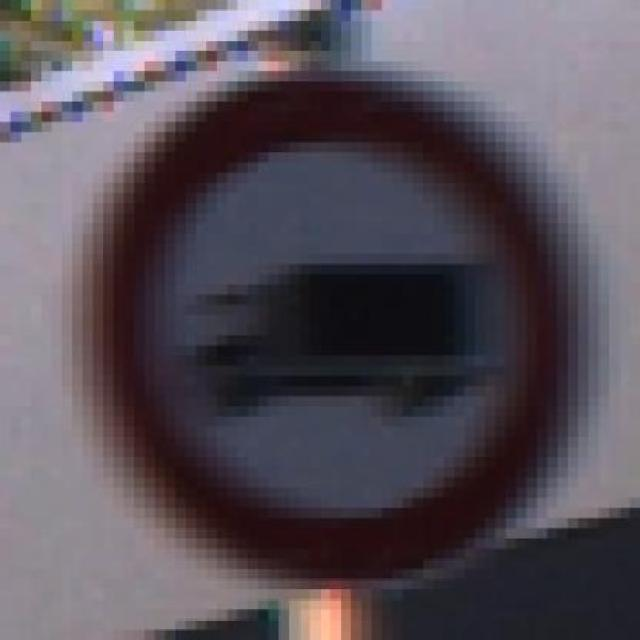Truck traffic is prohibited: (66, 50, 592, 588)
